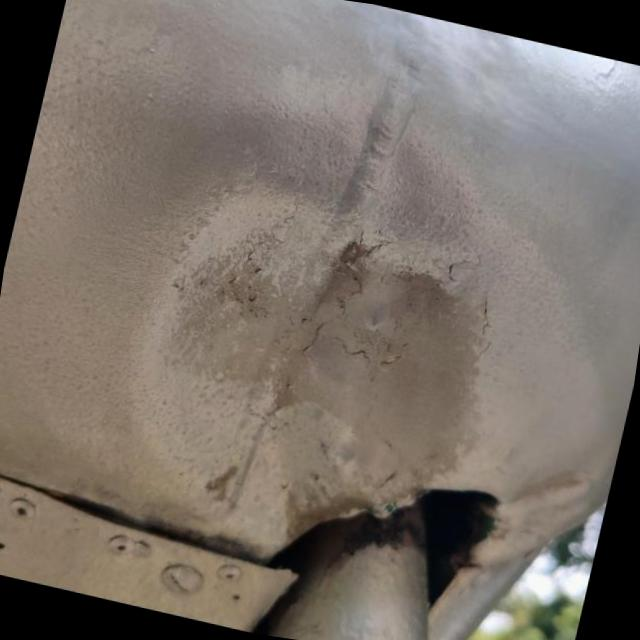dent: (100, 166, 504, 574), (488, 442, 604, 528)
